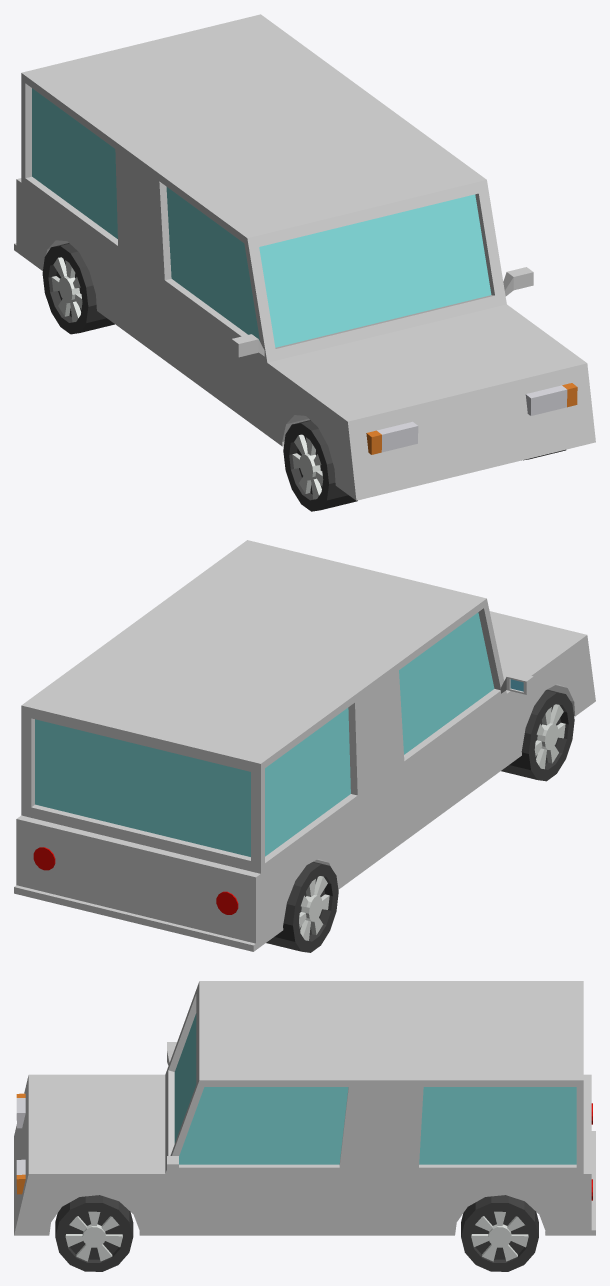
Rendered from Car1.fbx.
3 views of the same model, one above another, from view 1: azimuth 30°, elevation 25°; view 2: azimuth 150°, elevation 25°; view 3: azimuth 270°, elevation 25° (orthographic). The views are drawn at different scales.
Parts seen in each view (by area): view 1: MainColor, Main, RRightTire, FRightTire; view 2: MainColor, Main, RRightTire, FRightTire; view 3: MainColor, Main, FLeftTire, RLeftTire.
Part boxes in pixels (bbox=[...]): MainColor: bbox=[14, 14, 595, 500]; Main: bbox=[32, 88, 577, 454]; RRightTire: bbox=[42, 243, 114, 334]; FRightTire: bbox=[283, 420, 357, 511]; MainColor: bbox=[14, 540, 595, 951]; Main: bbox=[33, 612, 523, 914]; RRightTire: bbox=[266, 861, 338, 952]; FRightTire: bbox=[501, 689, 574, 781]; MainColor: bbox=[14, 981, 595, 1235]; Main: bbox=[16, 1013, 592, 1200]; FLeftTire: bbox=[55, 1195, 133, 1271]; RLeftTire: bbox=[461, 1195, 538, 1271].
Size of the model in its own units: 122 by 88.44 by 245.
